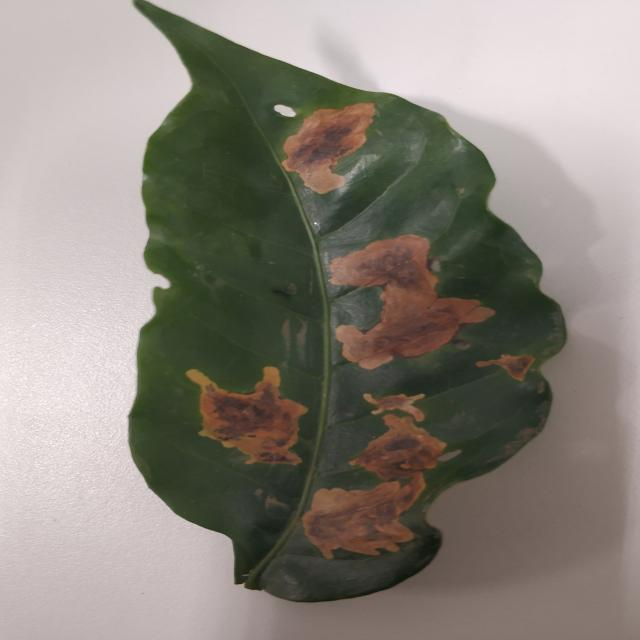Plaga-Minador: (126, 0, 569, 606)
